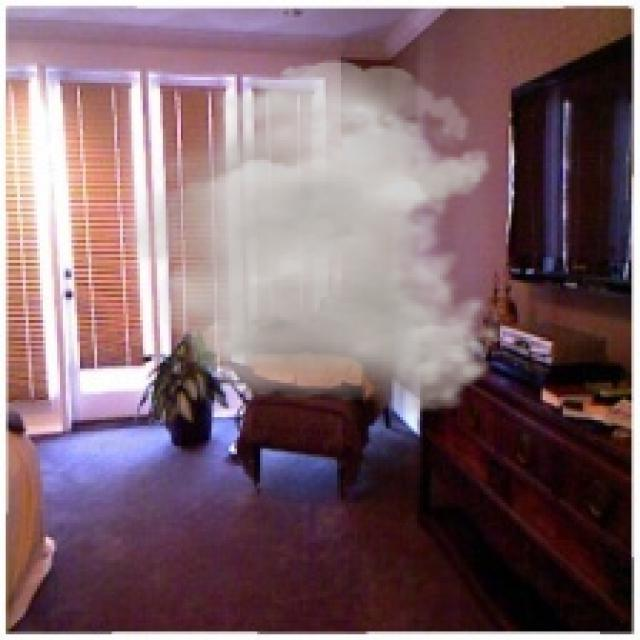Smoke: (106, 59, 506, 414)
